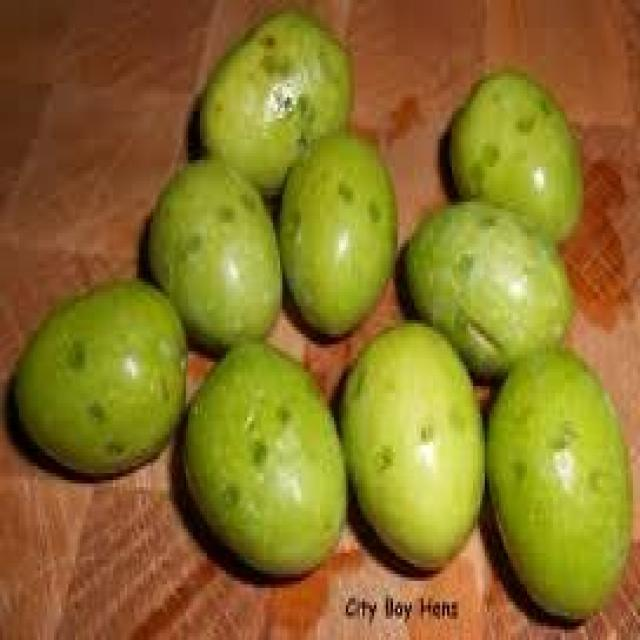Anthracnose: (487, 344, 631, 616), (186, 341, 346, 567), (338, 324, 482, 566), (17, 278, 178, 473), (404, 202, 570, 372), (202, 10, 346, 192), (151, 160, 280, 337), (280, 132, 393, 327), (449, 70, 576, 240)
